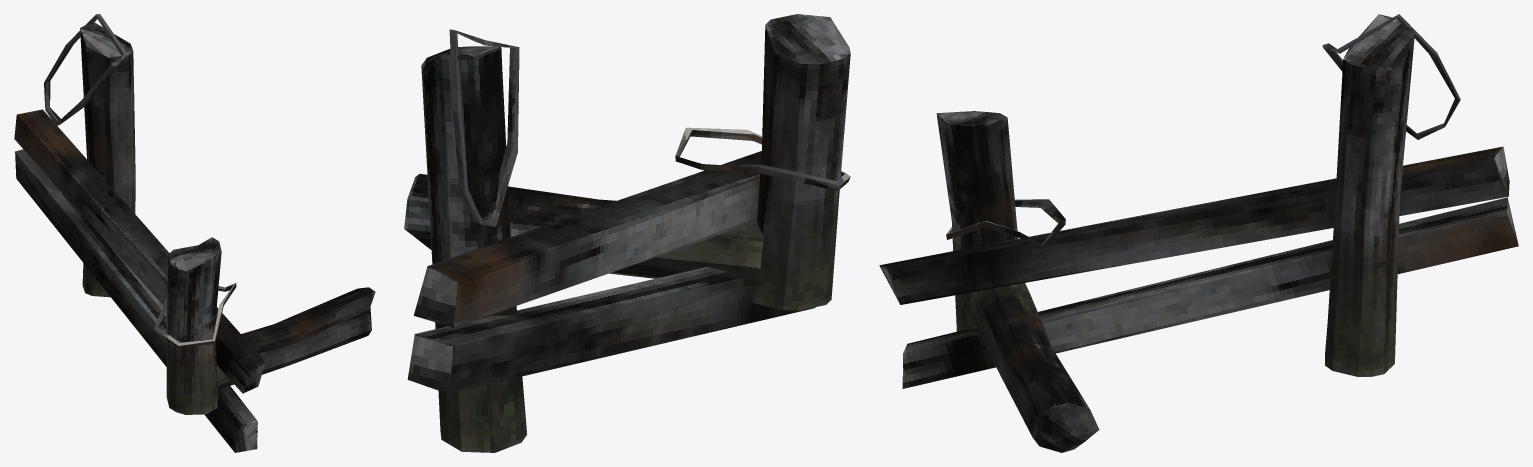
The model's file is big_fence_01.glb.
3 renders of one model, left to right at view 1: azimuth 30°, elevation 25°; view 2: azimuth 150°, elevation 25°; view 3: azimuth 270°, elevation 25°, orthographic. The views are drawn at different scales.
Visible parts, largest first — view 1: big_fence_01; view 2: big_fence_01; view 3: big_fence_01.
Boxes of the visible parts, <box> form: big_fence_01: <box>14,14,375,452</box>; big_fence_01: <box>404,14,850,452</box>; big_fence_01: <box>879,14,1518,452</box>.
Size of the model in its own units: 3.51 by 4.1 by 6.02.
1 material, 1 textured.
